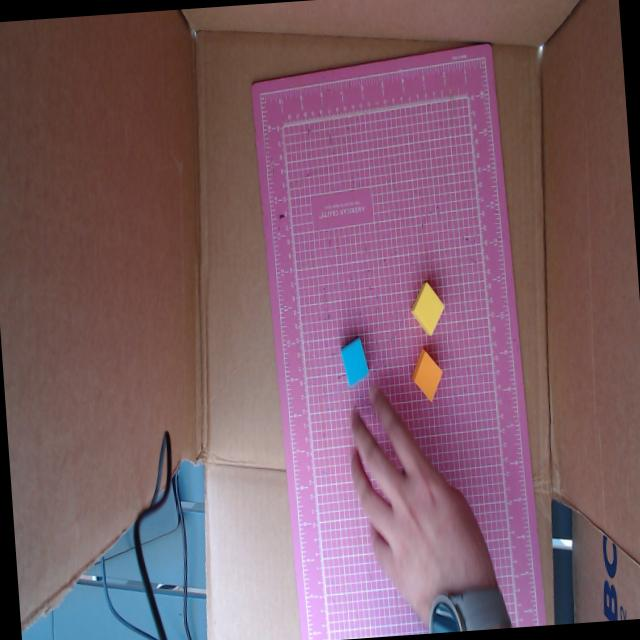bluecube: (340, 336, 368, 386)
orangecube: (412, 348, 442, 401)
yellowcube: (411, 281, 443, 335)
